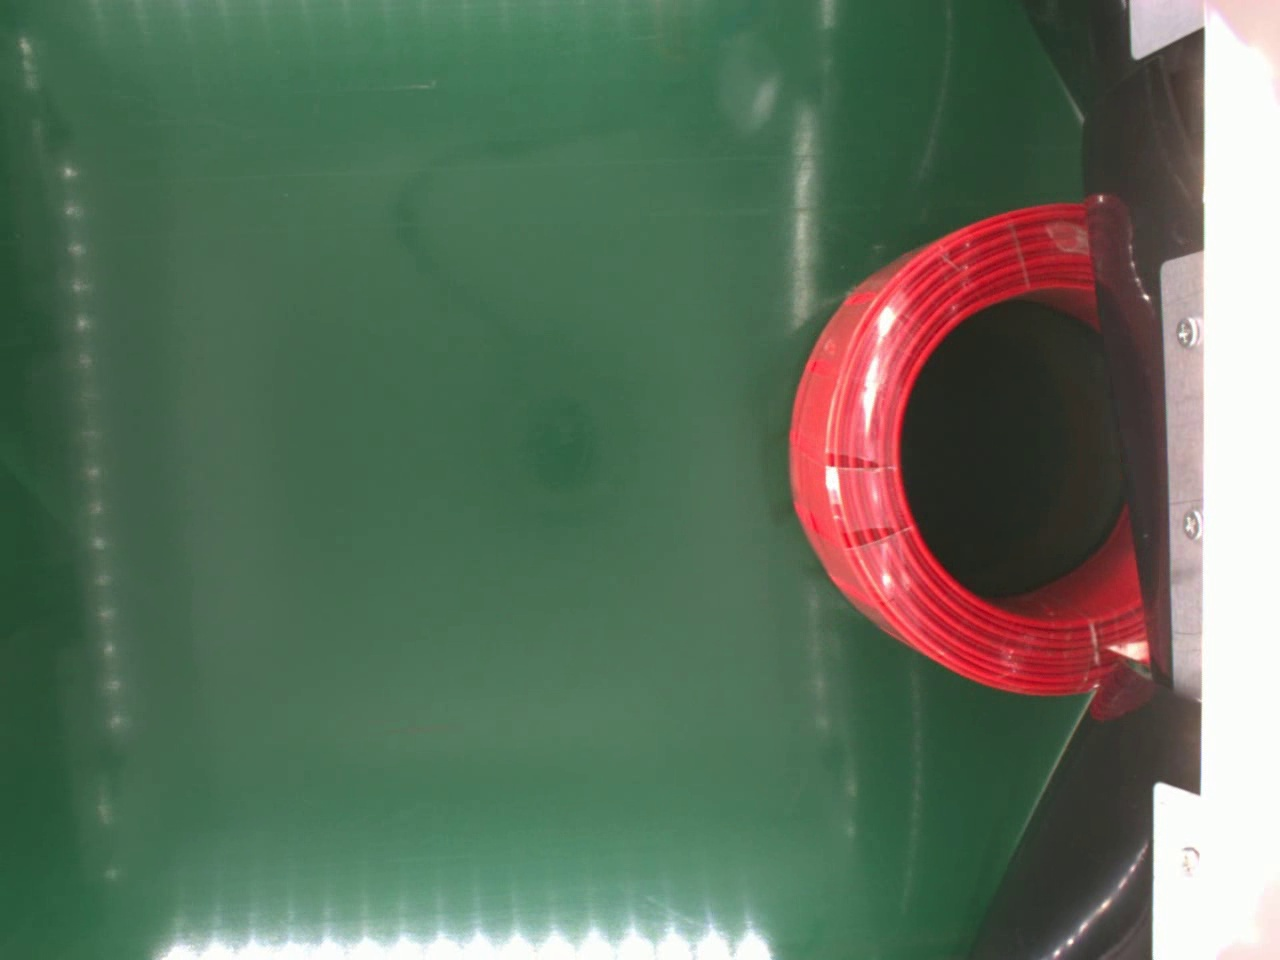red: (788, 199, 1149, 698)
